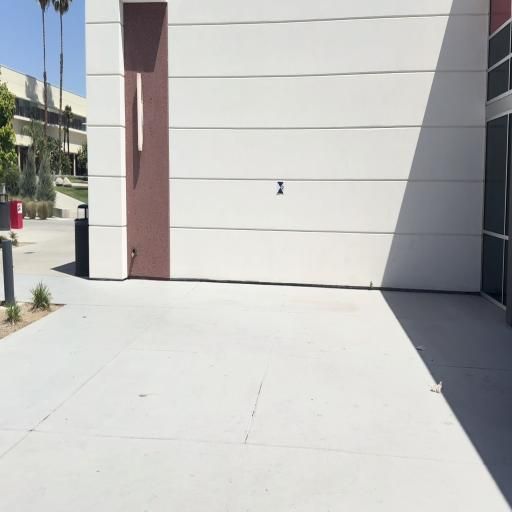target0: (277, 181, 284, 195)
